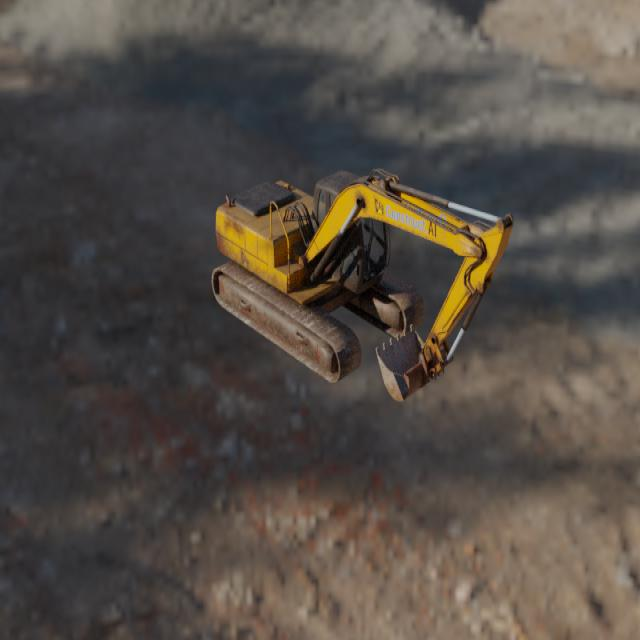excavator: (211, 168, 513, 401)
